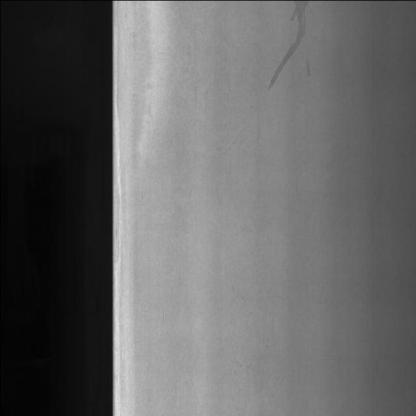water_spot: (258, 0, 320, 96)
